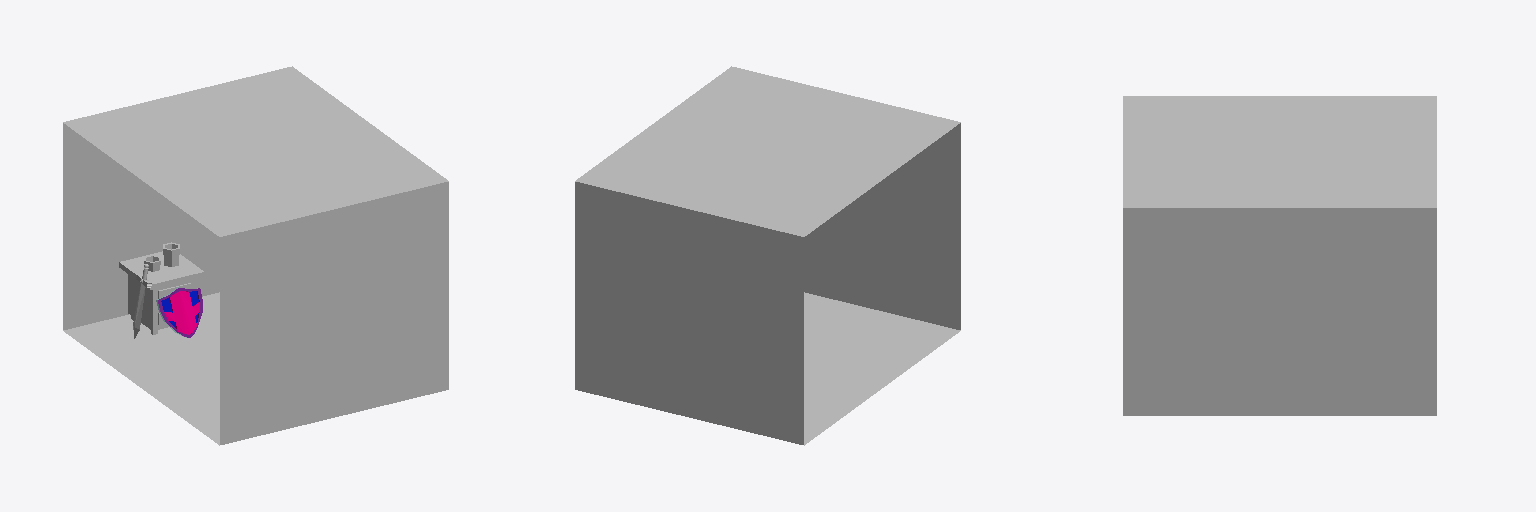
The picture shows the model from 3 angles: view 1: azimuth 30°, elevation 25°; view 2: azimuth 150°, elevation 25°; view 3: azimuth 270°, elevation 25°; orthographic projection.
Visible parts, largest first — view 1: Cubo.004, Cubo.001, Cubo.003, Cilindro.001; view 2: Cubo.004; view 3: Cubo.004.
Boxes of the visible parts, x1=… form: Cubo.004: x1=63, y1=66, x2=448, y2=445; Cubo.001: x1=119, y1=251, x2=204, y2=334; Cubo.003: x1=156, y1=287, x2=202, y2=337; Cilindro.001: x1=144, y1=242, x2=179, y2=271; Cubo.004: x1=575, y1=66, x2=960, y2=445; Cubo.004: x1=1123, y1=96, x2=1436, y2=415.
Bounding box in the file's own units: 4.87 × 4.22 × 5.77.
9 materials, 1 textured.